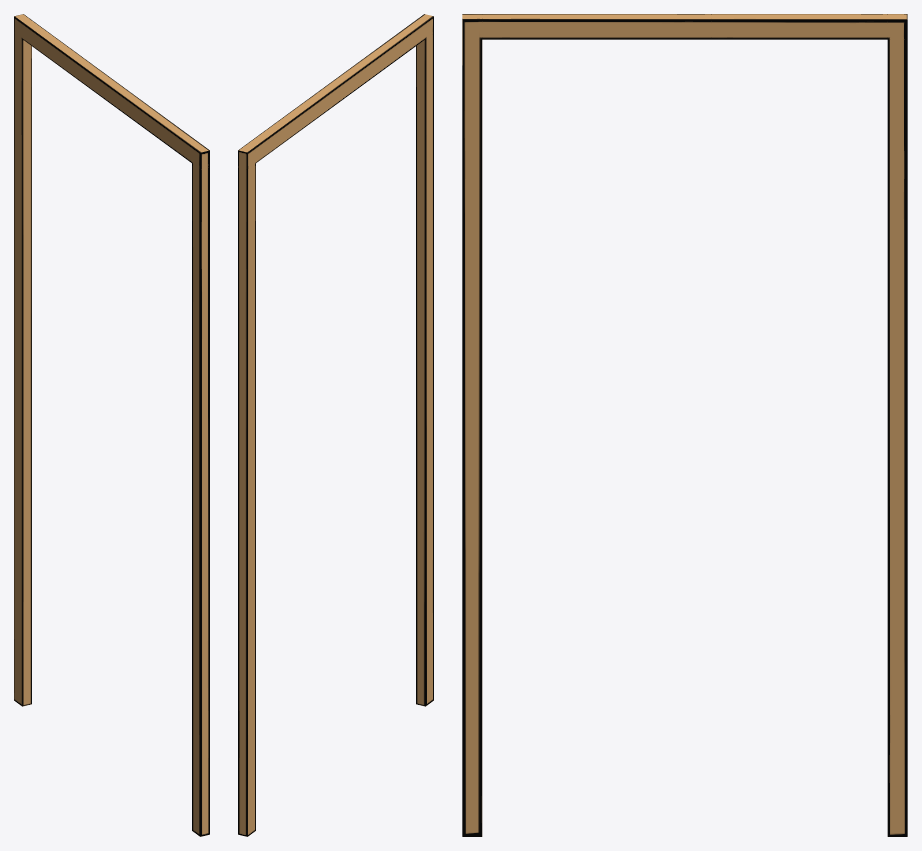
The model's file is outline_vending_machine_1.glb.
3 renders of one model, left to right at view 1: azimuth 30°, elevation 25°; view 2: azimuth 150°, elevation 25°; view 3: azimuth 270°, elevation 25°, orthographic. The views are drawn at different scales.
Visible parts, largest first — view 1: Outline Vending Machine; view 2: Outline Vending Machine; view 3: Outline Vending Machine.
Part boxes in pixels (left/top/right/bottom): Outline Vending Machine: left=14, top=14, right=209, bottom=836; Outline Vending Machine: left=238, top=14, right=433, bottom=836; Outline Vending Machine: left=462, top=14, right=907, bottom=836.
Bounding box in the file's own units: 0.0361 × 2.48 × 1.22.
1 material, 1 textured.
